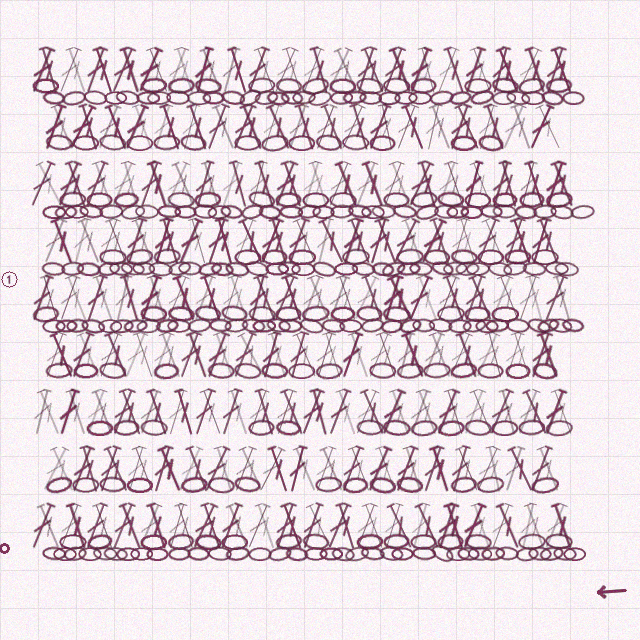chain: (300, 75, 331, 97), (44, 474, 74, 496), (429, 542, 456, 565), (247, 189, 276, 210), (355, 76, 385, 96), (260, 133, 290, 153), (530, 475, 560, 495), (237, 86, 263, 109), (517, 76, 546, 96), (125, 247, 154, 267), (233, 361, 262, 381), (368, 475, 397, 495), (477, 133, 505, 153), (531, 361, 559, 381), (86, 532, 114, 552), (98, 133, 127, 152), (179, 133, 208, 152), (220, 304, 249, 323), (301, 304, 330, 323), (98, 361, 127, 380), (449, 361, 478, 380), (382, 418, 411, 437), (233, 475, 262, 494), (395, 475, 424, 494), (476, 475, 505, 494), (380, 259, 407, 279), (298, 316, 325, 336), (491, 76, 519, 95), (45, 133, 73, 152), (315, 133, 343, 152), (410, 190, 438, 209), (545, 190, 573, 209), (194, 304, 222, 323), (464, 418, 492, 437), (180, 475, 208, 494), (450, 475, 478, 494), (167, 532, 195, 551), (275, 532, 303, 551), (302, 532, 330, 551), (382, 305, 411, 323), (307, 88, 333, 108), (414, 202, 440, 222), (311, 259, 337, 279), (526, 316, 552, 336), (194, 77, 222, 95), (275, 77, 303, 95), (167, 191, 195, 209), (450, 248, 478, 266), (32, 305, 60, 323), (167, 305, 195, 323), (248, 305, 276, 323), (315, 362, 343, 380), (396, 362, 424, 380), (410, 419, 438, 437), (437, 419, 465, 437), (545, 419, 573, 437), (207, 476, 235, 494), (194, 533, 222, 551), (464, 533, 492, 551), (469, 88, 495, 107), (244, 259, 270, 278), (113, 191, 140, 209), (153, 362, 180, 380), (275, 419, 302, 437), (342, 476, 369, 494), (167, 77, 195, 94), (545, 77, 573, 94), (153, 248, 181, 265), (342, 248, 370, 265), (396, 248, 424, 265), (437, 305, 465, 322), (45, 362, 73, 379), (207, 362, 235, 379), (423, 362, 451, 379), (140, 419, 168, 436), (356, 419, 384, 436), (518, 533, 546, 550), (545, 533, 573, 550), (240, 202, 265, 221), (167, 259, 192, 278), (430, 259, 455, 278), (398, 316, 423, 335), (536, 316, 561, 335), (61, 89, 87, 107), (505, 89, 531, 107), (120, 203, 146, 221), (549, 203, 575, 221), (197, 260, 223, 278), (224, 260, 250, 278), (487, 260, 513, 278), (80, 317, 106, 335), (267, 545, 293, 563), (344, 545, 370, 563), (140, 77, 167, 94), (248, 77, 275, 94), (383, 77, 410, 94), (410, 77, 437, 94), (153, 134, 180, 151), (342, 134, 369, 151), (59, 191, 86, 208), (194, 191, 221, 208), (437, 191, 464, 208), (140, 305, 167, 322), (356, 305, 383, 322), (261, 362, 288, 379), (369, 362, 396, 379), (113, 419, 140, 436), (248, 419, 275, 436), (518, 419, 545, 436), (99, 476, 126, 493), (315, 476, 342, 493), (356, 533, 383, 550), (383, 533, 410, 550), (437, 533, 464, 550), (448, 89, 473, 107), (540, 89, 565, 107), (219, 203, 244, 221), (464, 78, 492, 94), (329, 192, 357, 208), (99, 249, 127, 265), (288, 249, 316, 265), (531, 249, 559, 265), (491, 306, 519, 322), (59, 534, 87, 550), (220, 89, 246, 106), (519, 191, 545, 208), (78, 203, 104, 220), (502, 260, 528, 277), (32, 78, 59, 94), (329, 78, 356, 94), (72, 135, 99, 151), (126, 135, 153, 151), (234, 135, 261, 151), (288, 135, 315, 151), (369, 135, 396, 151), (450, 135, 477, 151), (86, 192, 113, 208), (275, 192, 302, 208), (302, 192, 329, 208), (383, 192, 410, 208), (464, 192, 491, 208), (234, 249, 261, 265), (261, 249, 288, 265), (423, 249, 450, 265), (477, 249, 504, 265), (504, 249, 531, 265), (275, 306, 302, 322), (464, 306, 491, 322), (288, 363, 315, 379), (477, 363, 504, 379), (86, 420, 113, 436), (491, 420, 518, 436), (72, 477, 99, 493), (126, 477, 153, 493), (140, 534, 167, 550), (221, 534, 248, 550), (410, 534, 437, 550), (83, 89, 108, 106), (115, 89, 140, 106), (254, 89, 279, 106), (429, 89, 454, 106), (297, 203, 322, 220), (347, 203, 372, 220), (392, 203, 417, 220), (120, 260, 145, 277), (187, 317, 212, 334), (224, 317, 249, 334), (241, 317, 266, 334), (266, 317, 291, 334), (360, 317, 385, 334), (428, 317, 453, 334), (462, 317, 487, 334), (548, 317, 573, 334), (225, 545, 250, 562), (360, 545, 385, 562), (379, 545, 404, 562), (539, 545, 564, 562), (492, 192, 518, 208), (330, 306, 356, 322), (73, 363, 99, 379), (505, 363, 531, 379), (280, 89, 304, 106), (97, 260, 121, 277), (155, 317, 179, 334), (561, 317, 585, 334), (63, 545, 87, 562), (207, 204, 232, 220), (570, 204, 595, 220), (41, 261, 66, 277), (76, 261, 101, 277), (148, 261, 173, 277), (351, 261, 376, 277), (396, 261, 421, 277), (522, 261, 547, 277), (554, 261, 579, 277), (109, 318, 134, 334), (123, 318, 148, 334), (136, 318, 161, 334), (321, 318, 346, 334), (103, 546, 128, 562), (42, 90, 66, 106), (266, 90, 290, 106), (54, 204, 78, 220), (258, 204, 282, 220), (514, 204, 538, 220), (210, 261, 234, 277), (371, 261, 395, 277), (380, 318, 404, 334), (285, 546, 309, 562), (331, 546, 355, 562), (515, 546, 539, 562), (342, 90, 367, 105), (371, 204, 396, 219), (492, 204, 517, 219), (455, 261, 480, 276), (166, 90, 190, 105), (292, 90, 316, 105), (99, 204, 123, 219), (135, 204, 159, 219), (157, 204, 181, 219), (193, 204, 217, 219), (330, 204, 354, 219), (434, 204, 458, 219), (533, 204, 557, 219), (109, 261, 133, 276), (178, 261, 202, 276), (277, 261, 301, 276), (409, 261, 433, 276), (443, 261, 467, 276), (545, 261, 569, 276), (278, 318, 302, 333), (485, 318, 509, 333), (506, 318, 530, 333), (42, 546, 66, 561), (93, 546, 117, 561), (208, 546, 232, 561), (412, 546, 436, 561), (468, 546, 492, 561), (481, 546, 505, 561), (495, 546, 519, 561), (528, 546, 552, 561), (553, 546, 577, 561), (330, 90, 353, 105), (446, 204, 469, 219), (480, 204, 503, 219), (61, 261, 84, 276), (132, 261, 155, 276), (66, 318, 89, 333), (209, 318, 232, 333), (412, 318, 435, 333), (187, 546, 210, 561), (457, 546, 480, 561), (136, 91, 160, 105), (147, 91, 171, 105), (187, 91, 211, 105), (394, 91, 418, 105), (408, 91, 432, 105), (492, 91, 516, 105), (521, 91, 545, 105), (42, 205, 66, 219), (65, 205, 89, 219), (279, 205, 303, 219), (361, 205, 385, 219), (265, 262, 289, 276), (291, 262, 315, 276), (334, 262, 358, 276), (466, 262, 490, 276), (42, 319, 66, 333), (98, 319, 122, 333), (167, 319, 191, 333), (252, 319, 276, 333), (448, 319, 472, 333), (475, 319, 499, 333), (53, 547, 77, 561), (78, 547, 102, 561), (116, 547, 140, 561), (248, 547, 272, 561), (304, 547, 328, 561), (319, 547, 343, 561), (446, 547, 470, 561), (104, 91, 127, 105), (202, 91, 225, 105), (359, 91, 382, 105), (378, 91, 401, 105), (562, 91, 585, 105), (174, 205, 197, 219), (312, 205, 335, 219), (460, 205, 483, 219), (55, 319, 78, 333), (339, 319, 362, 333), (130, 547, 153, 561), (146, 547, 169, 561), (168, 547, 191, 561), (391, 547, 414, 561), (563, 547, 586, 561)
double: (64, 102, 100, 152), (37, 444, 73, 494), (253, 444, 289, 494), (32, 159, 68, 208), (234, 330, 270, 379), (315, 216, 350, 266), (388, 216, 423, 266), (415, 216, 450, 266), (348, 273, 383, 323), (383, 273, 418, 323), (199, 444, 234, 494), (504, 444, 539, 494), (302, 501, 337, 551), (383, 501, 418, 551), (268, 45, 302, 95), (322, 45, 356, 95), (330, 45, 364, 95), (511, 45, 545, 95), (262, 102, 296, 152), (335, 102, 369, 152), (451, 102, 485, 152), (524, 102, 558, 152), (532, 102, 566, 152), (160, 159, 194, 209), (403, 159, 437, 209), (235, 216, 269, 266), (470, 330, 504, 380), (349, 387, 383, 437), (519, 387, 553, 437), (46, 444, 80, 494), (100, 444, 134, 494), (173, 444, 207, 494), (235, 444, 269, 494), (470, 444, 504, 494), (187, 501, 221, 551), (411, 501, 445, 551), (106, 45, 139, 95), (133, 45, 166, 95), (357, 45, 390, 95), (492, 45, 525, 95), (92, 102, 125, 152), (119, 102, 152, 152), (208, 102, 241, 152), (227, 102, 260, 152), (497, 102, 530, 152), (25, 159, 58, 209), (52, 159, 85, 209), (106, 159, 139, 209), (168, 159, 201, 209), (322, 159, 355, 209), (38, 216, 71, 266), (173, 216, 206, 266), (289, 216, 322, 266), (478, 216, 511, 266), (160, 273, 193, 323), (268, 273, 301, 323), (303, 273, 336, 323), (403, 273, 436, 323), (465, 273, 498, 323), (46, 330, 79, 380), (73, 330, 106, 380), (119, 330, 152, 380), (289, 330, 322, 380), (362, 330, 395, 380), (443, 330, 476, 380), (33, 387, 66, 437), (357, 387, 390, 437), (376, 387, 409, 437), (484, 387, 517, 437), (154, 444, 187, 494), (289, 444, 322, 494), (316, 444, 349, 494), (362, 444, 395, 494), (451, 444, 484, 494), (33, 501, 66, 551), (133, 501, 166, 551), (222, 501, 255, 551), (241, 501, 274, 551), (322, 501, 355, 551), (457, 501, 490, 551), (492, 501, 525, 551), (26, 45, 58, 95), (53, 45, 85, 95), (142, 45, 174, 95), (161, 45, 193, 95), (196, 45, 228, 95), (296, 45, 328, 95), (377, 45, 409, 95), (385, 45, 417, 95), (431, 45, 463, 95), (47, 102, 79, 152), (101, 102, 133, 152), (201, 102, 233, 152), (236, 102, 268, 152), (309, 102, 341, 152), (317, 102, 349, 152), (363, 102, 395, 152), (390, 102, 422, 152), (398, 102, 430, 152), (425, 102, 457, 152), (80, 159, 112, 209), (269, 159, 301, 209), (331, 159, 363, 209), (350, 159, 382, 209), (385, 159, 417, 209), (466, 159, 498, 209), (547, 159, 579, 209), (47, 216, 79, 266), (74, 216, 106, 266), (101, 216, 133, 266), (128, 216, 160, 266), (228, 216, 260, 266), (255, 216, 287, 266), (344, 216, 376, 266), (371, 216, 403, 266), (471, 216, 503, 266), (533, 216, 565, 266), (61, 273, 93, 323), (169, 273, 201, 323), (188, 273, 220, 323), (250, 273, 282, 323), (412, 273, 444, 323), (431, 273, 463, 323), (485, 273, 517, 323), (493, 273, 525, 323), (539, 273, 571, 323), (93, 330, 125, 380), (101, 330, 133, 380), (155, 330, 187, 380), (201, 330, 233, 380), (228, 330, 260, 380), (398, 330, 430, 380), (417, 330, 449, 380), (425, 330, 457, 380), (107, 387, 139, 437), (115, 387, 147, 437), (277, 387, 309, 437), (296, 387, 328, 437), (323, 387, 355, 437), (431, 387, 463, 437), (458, 387, 490, 437), (466, 387, 498, 437), (512, 387, 544, 437), (66, 444, 98, 494), (182, 444, 214, 494), (228, 444, 260, 494), (344, 444, 376, 494), (390, 444, 422, 494), (533, 444, 565, 494), (26, 501, 58, 551), (53, 501, 85, 551), (107, 501, 139, 551), (115, 501, 147, 551), (539, 501, 571, 551), (80, 45, 111, 95), (242, 45, 273, 95), (250, 45, 281, 95), (404, 45, 435, 95), (466, 45, 497, 95), (547, 45, 578, 95), (39, 102, 70, 152), (128, 102, 159, 152), (282, 102, 313, 152), (444, 102, 475, 152), (61, 159, 92, 209), (88, 159, 119, 209), (134, 159, 165, 209), (277, 159, 308, 209), (358, 159, 389, 209), (377, 159, 408, 209), (93, 216, 124, 266), (282, 216, 313, 266), (398, 216, 429, 266), (26, 273, 57, 323), (53, 273, 84, 323), (296, 273, 327, 323), (323, 273, 354, 323), (358, 273, 389, 323), (439, 273, 470, 323), (512, 273, 543, 323), (39, 330, 70, 380), (66, 330, 97, 380), (147, 330, 178, 380), (174, 330, 205, 380), (182, 330, 213, 380), (209, 330, 240, 380), (336, 330, 367, 380), (344, 330, 375, 380), (452, 330, 483, 380), (525, 330, 556, 380), (533, 330, 564, 380), (88, 387, 119, 437), (134, 387, 165, 437), (196, 387, 227, 437), (242, 387, 273, 437), (385, 387, 416, 437), (404, 387, 435, 437), (412, 387, 443, 437), (539, 387, 570, 437), (547, 387, 578, 437), (128, 444, 159, 494), (309, 444, 340, 494), (336, 444, 367, 494), (371, 444, 402, 494), (525, 444, 556, 494), (80, 501, 111, 551), (88, 501, 119, 551), (215, 501, 246, 551), (277, 501, 308, 551), (350, 501, 381, 551), (358, 501, 389, 551), (485, 501, 516, 551), (520, 501, 551, 551), (547, 501, 578, 551), (62, 45, 92, 95), (89, 45, 119, 95), (170, 45, 200, 95), (278, 45, 308, 95), (351, 45, 381, 95), (440, 45, 470, 95), (459, 45, 489, 95), (521, 45, 551, 95), (540, 45, 570, 95), (156, 102, 186, 152), (183, 102, 213, 152), (256, 102, 286, 152), (480, 102, 510, 152), (507, 102, 537, 152), (143, 159, 173, 209), (216, 159, 246, 209), (432, 159, 462, 209), (440, 159, 470, 209), (540, 159, 570, 209), (202, 216, 232, 266), (337, 216, 367, 266), (426, 216, 456, 266), (499, 216, 529, 266), (507, 216, 537, 266), (81, 273, 111, 323), (89, 273, 119, 323), (135, 273, 165, 323), (143, 273, 173, 323), (197, 273, 227, 323), (224, 273, 254, 323), (278, 273, 308, 323), (332, 273, 362, 323), (459, 273, 489, 323), (129, 330, 159, 380), (372, 330, 402, 380), (62, 387, 92, 437), (81, 387, 111, 437), (143, 387, 173, 437), (189, 387, 219, 437), (216, 387, 246, 437), (224, 387, 254, 437), (270, 387, 300, 437), (332, 387, 362, 437), (94, 444, 124, 494), (264, 444, 294, 494), (418, 444, 448, 494), (499, 444, 529, 494), (62, 501, 92, 551), (170, 501, 200, 551), (197, 501, 227, 551), (251, 501, 281, 551), (270, 501, 300, 551), (297, 501, 327, 551), (432, 501, 462, 551), (440, 501, 470, 551), (467, 501, 497, 551), (35, 45, 64, 95), (116, 45, 145, 95), (224, 45, 253, 95), (75, 102, 104, 152), (148, 102, 177, 152), (291, 102, 320, 152), (472, 102, 501, 152), (197, 159, 226, 209), (251, 159, 280, 209), (297, 159, 326, 209), (305, 159, 334, 209), (486, 159, 515, 209), (521, 159, 550, 209), (121, 216, 150, 266), (156, 216, 185, 266), (364, 216, 393, 266), (445, 216, 474, 266), (453, 216, 482, 266), (526, 216, 555, 266), (116, 273, 145, 323), (216, 273, 245, 323), (378, 273, 407, 323), (264, 330, 293, 380), (310, 330, 339, 380), (318, 330, 347, 380), (499, 330, 528, 380), (507, 330, 536, 380), (54, 387, 83, 437), (162, 387, 191, 437), (251, 387, 280, 437), (440, 387, 469, 437), (121, 444, 150, 494), (148, 444, 177, 494), (210, 444, 239, 494), (399, 444, 428, 494), (426, 444, 455, 494), (143, 501, 172, 551), (162, 501, 191, 551), (332, 501, 361, 551), (378, 501, 407, 551), (306, 45, 334, 95), (176, 102, 204, 152), (346, 102, 374, 152), (117, 159, 145, 209), (190, 159, 218, 209), (225, 159, 253, 209), (414, 159, 442, 209), (495, 159, 523, 209), (149, 216, 177, 266), (184, 216, 212, 266), (211, 216, 239, 266), (265, 216, 293, 266), (36, 273, 64, 323), (549, 273, 577, 323), (257, 330, 285, 380), (284, 330, 312, 380), (171, 387, 199, 437), (76, 444, 104, 494), (446, 444, 474, 494), (406, 501, 434, 551), (190, 45, 217, 95), (217, 45, 244, 95), (414, 45, 441, 95), (487, 45, 514, 95), (244, 159, 271, 209), (460, 159, 487, 209), (514, 159, 541, 209), (68, 216, 95, 266), (311, 216, 338, 266), (244, 273, 271, 323), (522, 273, 549, 323), (392, 330, 419, 380), (481, 330, 508, 380), (306, 387, 333, 437), (495, 387, 522, 437), (284, 444, 311, 494), (420, 102, 446, 152), (110, 273, 136, 323), (29, 387, 55, 437), (515, 501, 541, 551), (374, 102, 399, 152), (482, 444, 507, 494)
noise: (594, 584, 627, 599), (0, 269, 20, 290), (0, 542, 11, 555)
